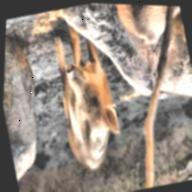boar: (30, 29, 137, 177)
